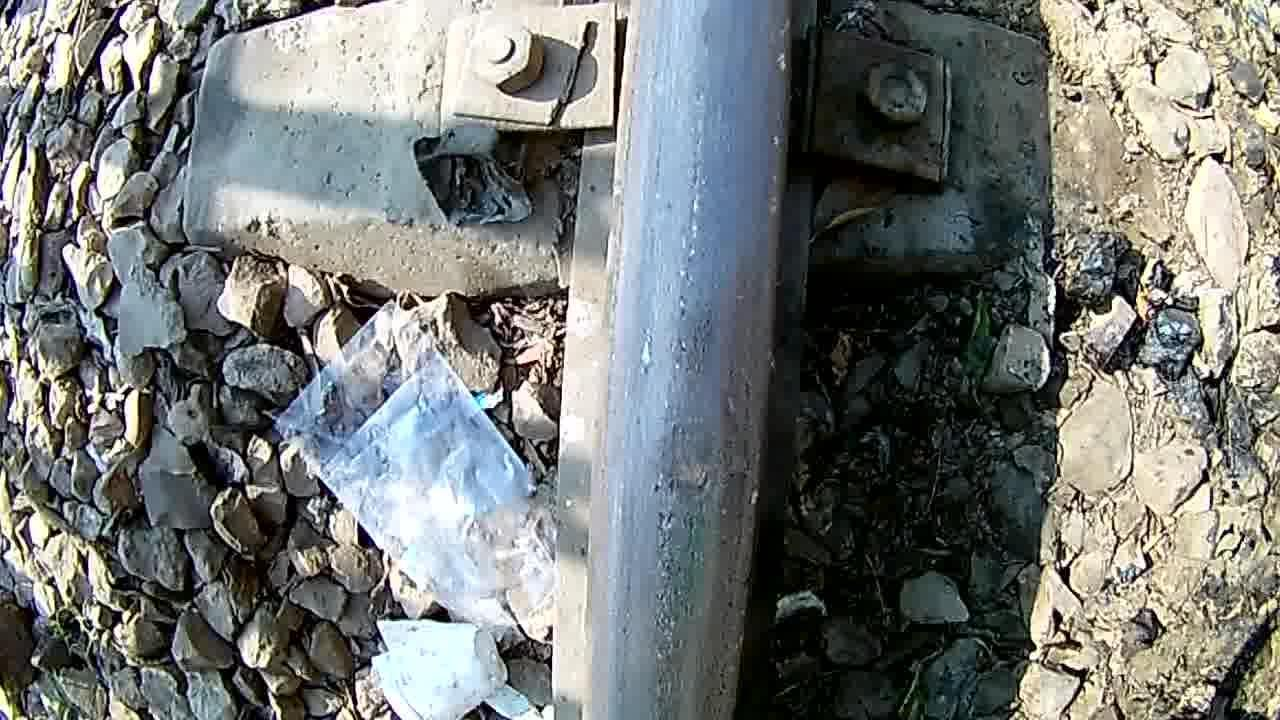crack: (625, 359, 757, 582)
